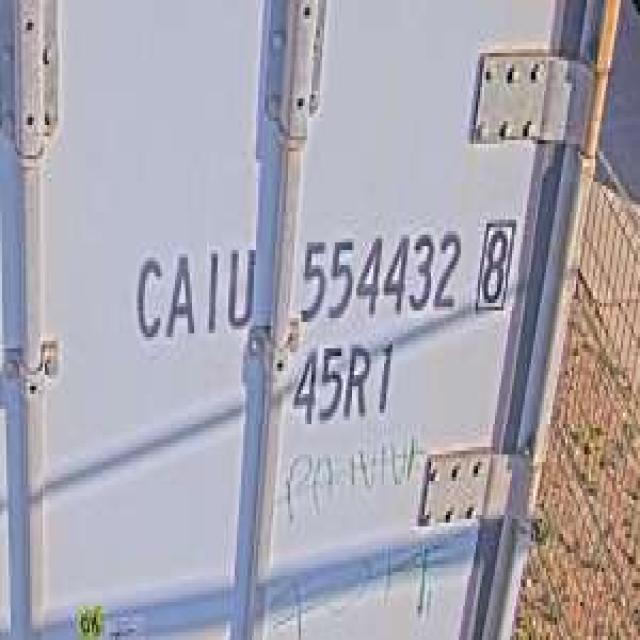dv: (472, 208, 514, 314)
owner: (126, 228, 258, 348)
serial: (292, 212, 463, 326)
size: (288, 329, 401, 432)
